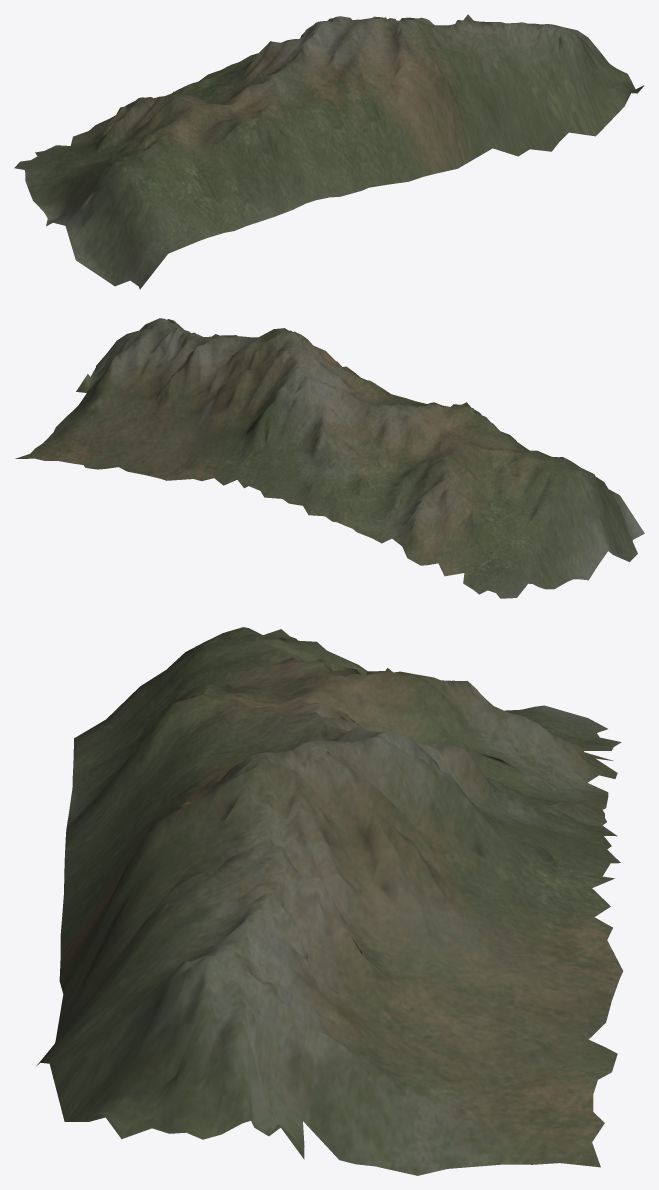
File: mountain_03.FBX
3 renders of one model, top to bottom at view 1: azimuth 30°, elevation 25°; view 2: azimuth 150°, elevation 25°; view 3: azimuth 270°, elevation 25°, orthographic. The views are drawn at different scales.
Parts seen in each view (by area): view 1: default001; view 2: default001; view 3: default001.
Part boxes in pixels (box(x1,y1,x2,y2)): default001: box(14, 14, 644, 289); default001: box(15, 318, 644, 598); default001: box(36, 627, 623, 1175).
Size of the model in its own units: 1045 by 308 by 494.
